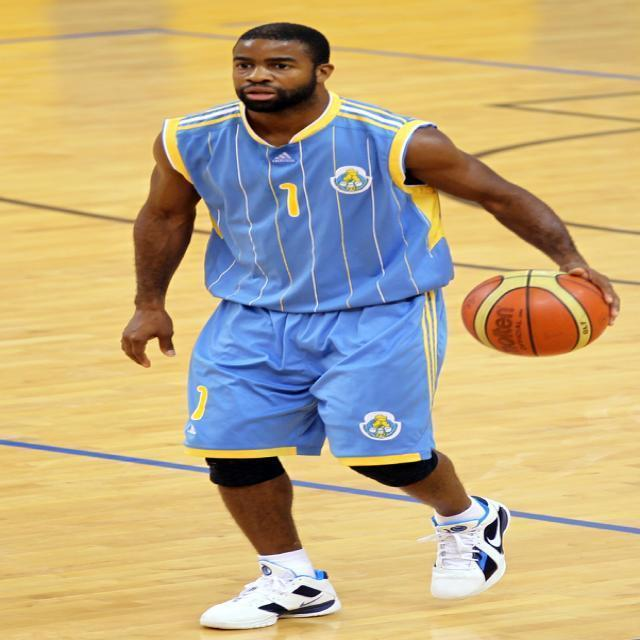ball: (463, 268, 618, 360)
